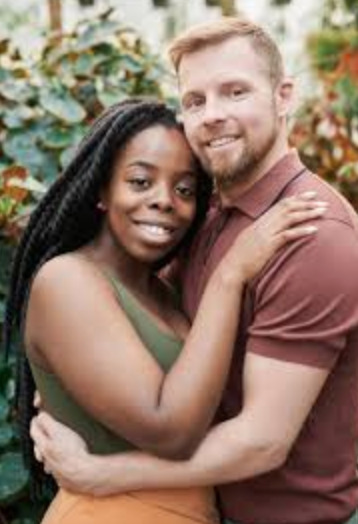Bad: (12, 18, 356, 524)
